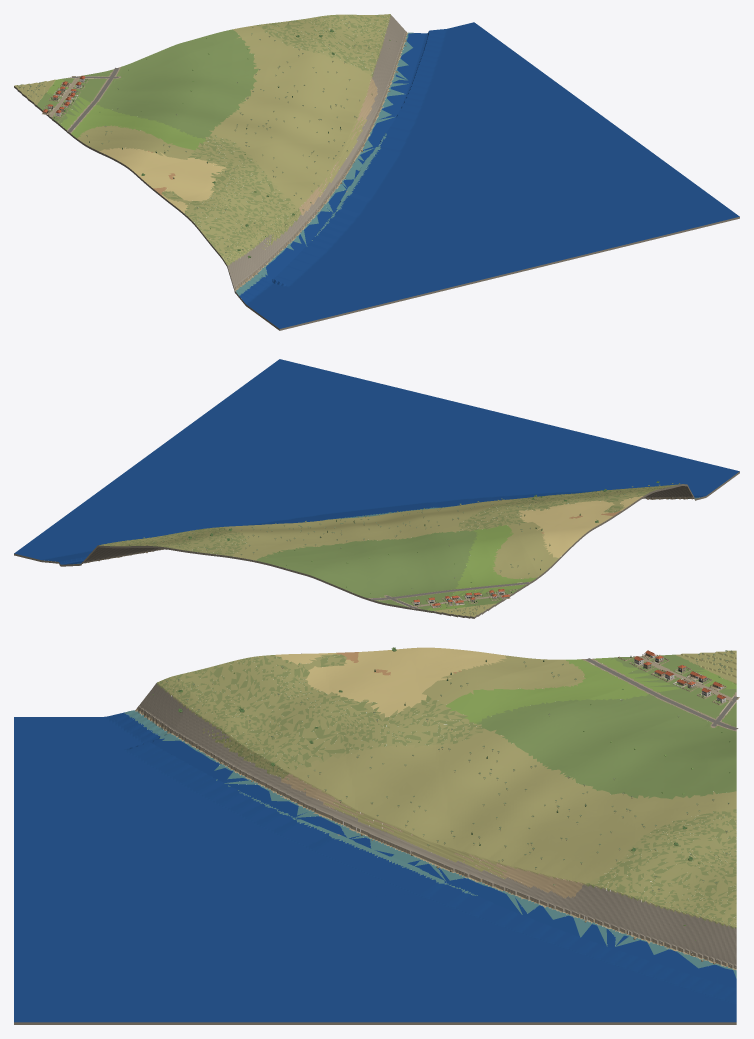
File: parca_+12_-7-yakin.glb
3 renders of one model, top to bottom at view 1: azimuth 30°, elevation 25°; view 2: azimuth 150°, elevation 25°; view 3: azimuth 270°, elevation 25°, orthographic. The views are drawn at different scales.
Visible parts, largest first — view 1: parca_+12_-7_arazi, parca_+12_-7_bitkiler, parca_+12_-7_yollar; view 2: parca_+12_-7_arazi, parca_+12_-7_bitkiler, parca_+12_-7_yollar, parca_+12_-7_yapilar; view 3: parca_+12_-7_arazi, parca_+12_-7_bitkiler, parca_+12_-7_yapilar, parca_+12_-7_yollar.
Boxes of the visible parts, x1,y1,x2,y2 form: parca_+12_-7_arazi: (14,14,739,330); parca_+12_-7_bitkiler: (17,19,396,258); parca_+12_-7_yollar: (49,67,118,132); parca_+12_-7_arazi: (14,359,739,618); parca_+12_-7_bitkiler: (143,481,684,615); parca_+12_-7_yollar: (371,582,529,608); parca_+12_-7_yapilar: (413,589,510,607); parca_+12_-7_arazi: (14,647,736,1024); parca_+12_-7_bitkiler: (153,647,732,940); parca_+12_-7_yapilar: (632,650,725,702); parca_+12_-7_yollar: (585,656,739,730).
Size of the model in its own units: 1009 by 114 by 1005.
